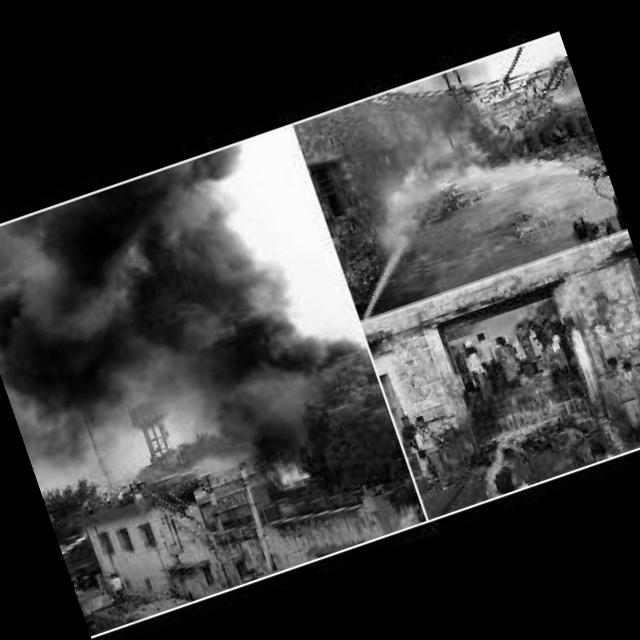fire: (435, 105, 567, 209), (369, 144, 436, 214), (249, 442, 316, 499), (618, 252, 640, 311)
smoke: (0, 123, 377, 502), (374, 58, 501, 154)
